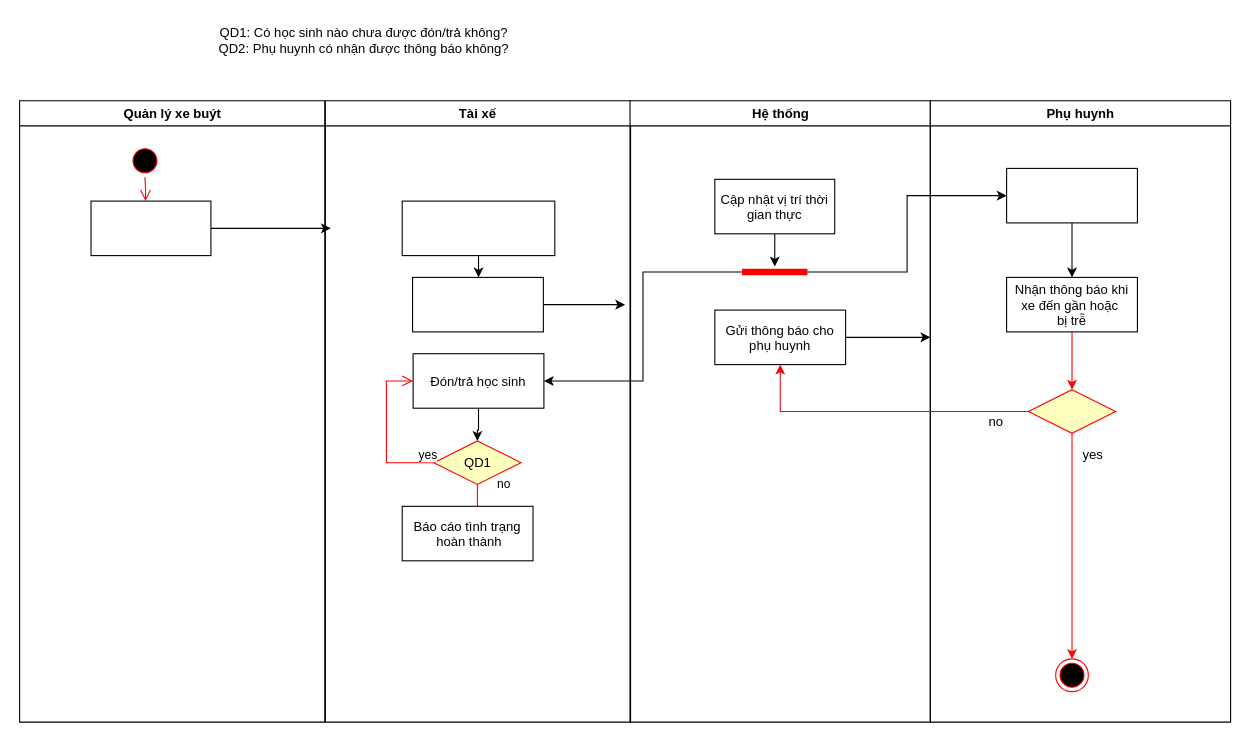
This 1249x741 diagram has some shape labels left out. Each missing label, with the centre of its shape:
"Khởi hành chuyến đi" belongs at (x=477, y=304).
"Phân công xe/tài xế" belongs at (x=150, y=228).
"QD2" belongs at (x=1071, y=411).
"Theo dõi vị trí xe" belongs at (x=1071, y=195).
"Xem lịch làm việc và danh sách học sinh" belongs at (x=478, y=228).
